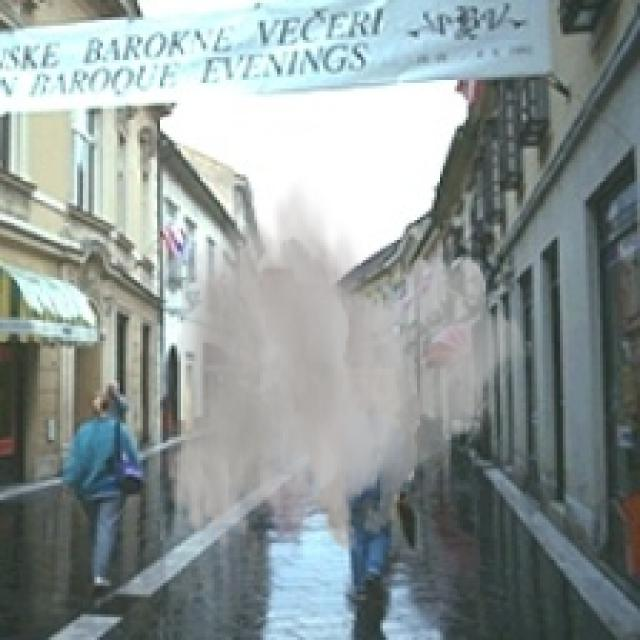smoke: (166, 175, 534, 554)
